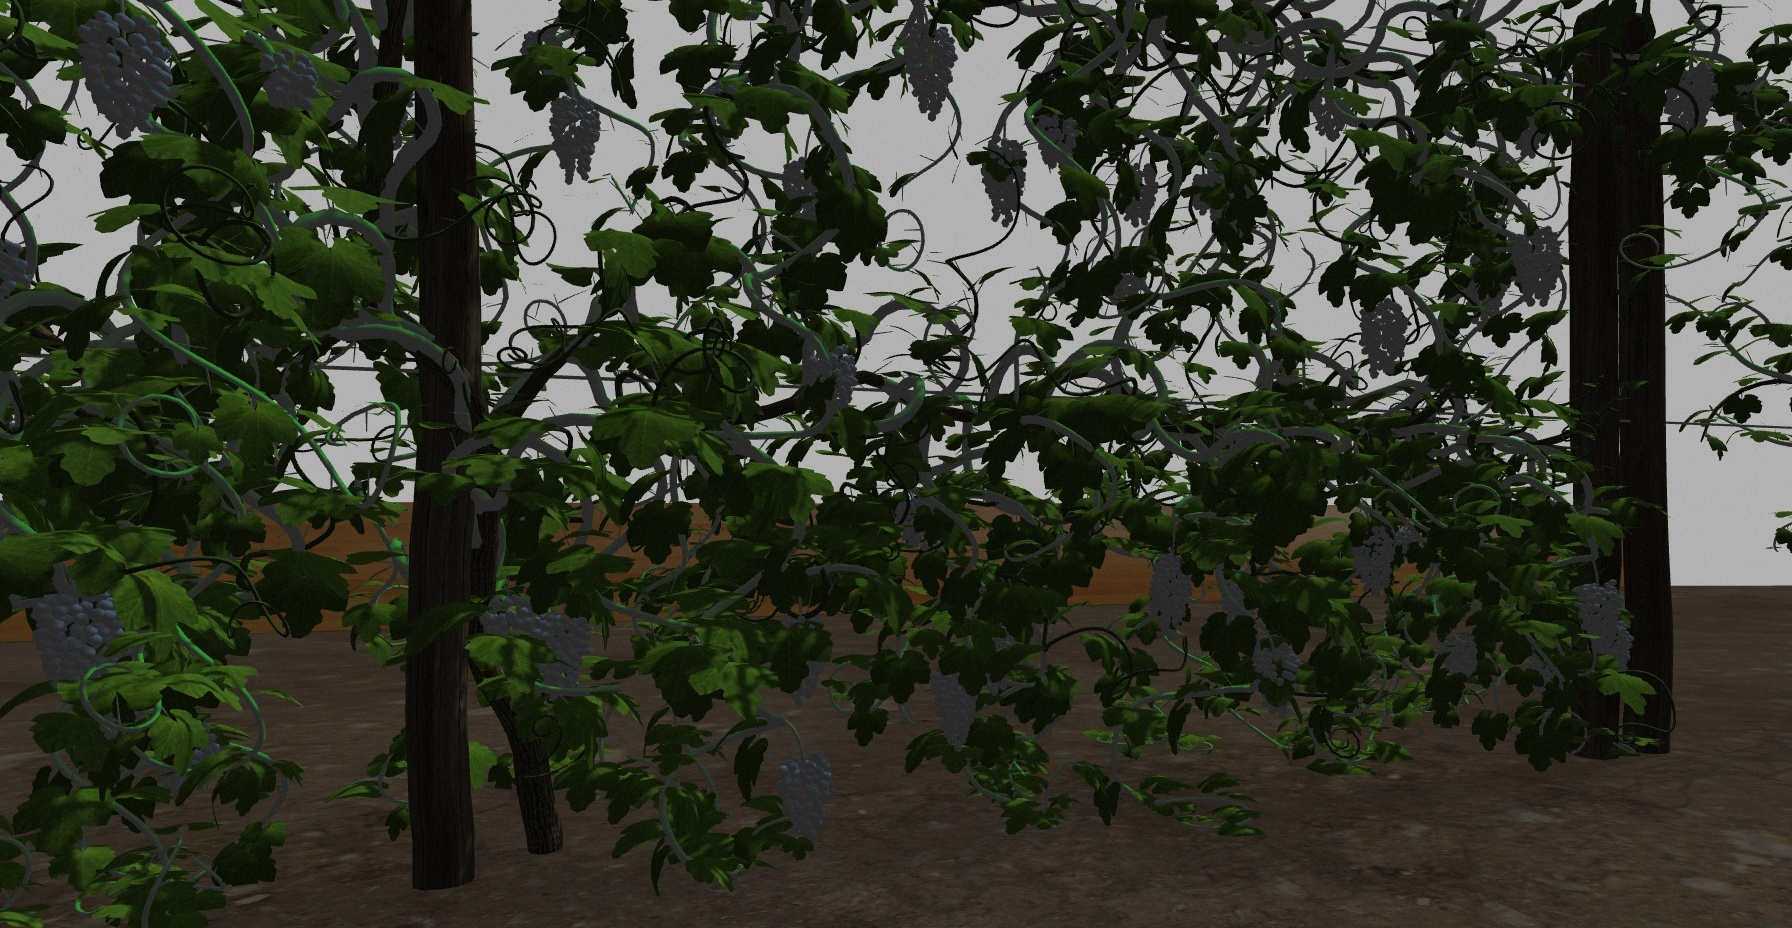grape: (76, 6, 174, 144), (28, 568, 121, 696), (898, 26, 958, 120), (776, 750, 834, 842), (1506, 226, 1566, 307), (549, 94, 602, 183), (929, 665, 979, 754), (256, 40, 318, 110), (1356, 294, 1409, 376), (536, 611, 588, 692), (981, 138, 1026, 228), (1663, 64, 1719, 133), (1148, 552, 1191, 634), (799, 353, 857, 411), (1351, 526, 1395, 597), (1577, 579, 1622, 639), (1119, 162, 1158, 226), (1251, 638, 1300, 689), (481, 597, 534, 643), (1034, 114, 1077, 170), (1436, 631, 1481, 676), (1591, 625, 1633, 670)
